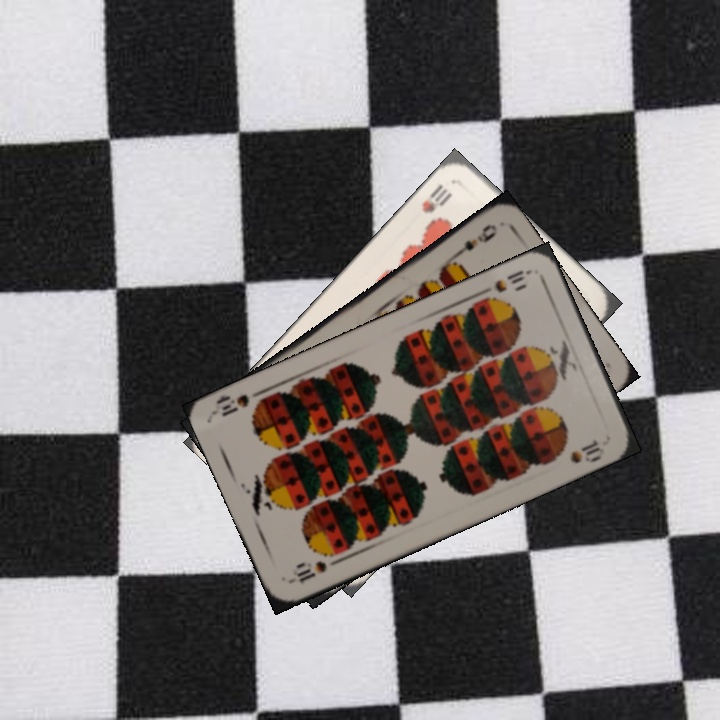E9: (449, 219, 500, 261)
H10: (417, 179, 455, 216)
S10: (476, 265, 533, 304), (287, 554, 344, 586)
